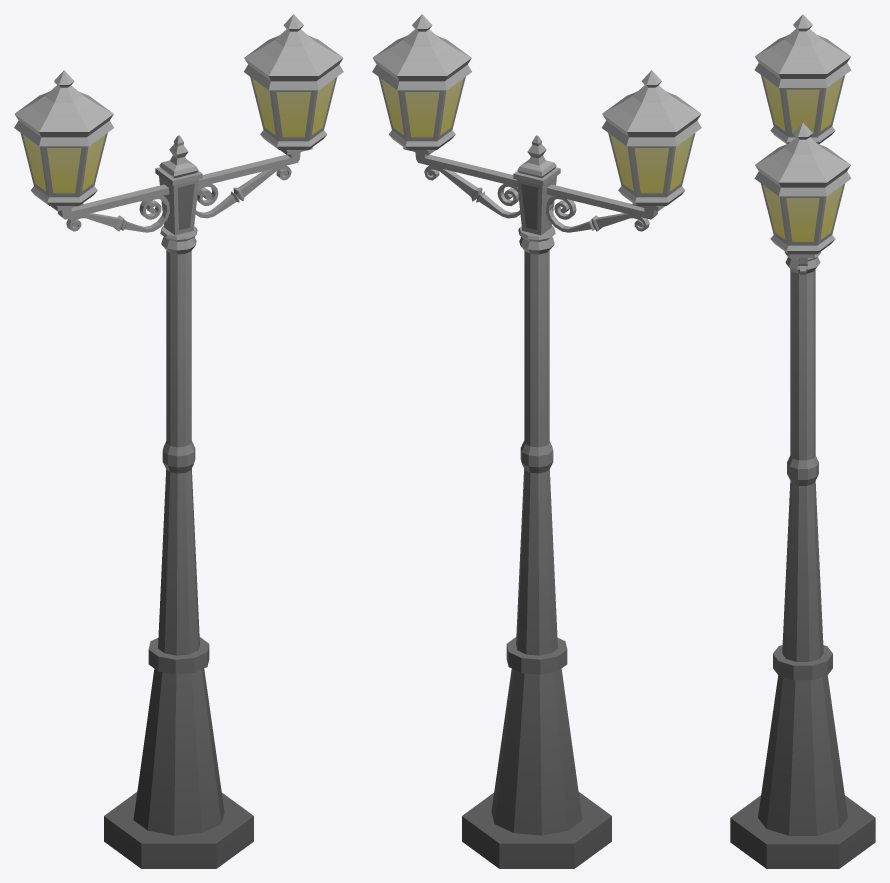
The model's file is lamppost 4.fbx.
3 views of the same model, side by side, from view 1: azimuth 30°, elevation 25°; view 2: azimuth 150°, elevation 25°; view 3: azimuth 270°, elevation 25° (orthographic). The views are drawn at different scales.
Parts seen in each view (by area): view 1: lamppost 4; view 2: lamppost 4; view 3: lamppost 4.
Boxes of the visible parts, x1=… form: lamppost 4: x1=14, y1=14, x2=343, y2=868; lamppost 4: x1=372, y1=14, x2=701, y2=868; lamppost 4: x1=730, y1=14, x2=875, y2=868.
Size of the model in its own units: 137 by 343 by 58.47.
